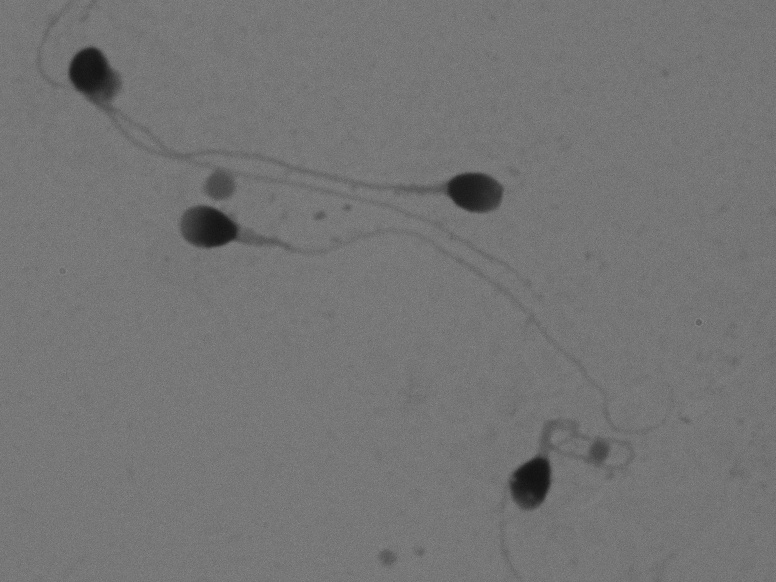Abnormal: (145, 193, 691, 448), (67, 24, 359, 204), (439, 398, 662, 554)
Normal: (121, 88, 520, 239)
